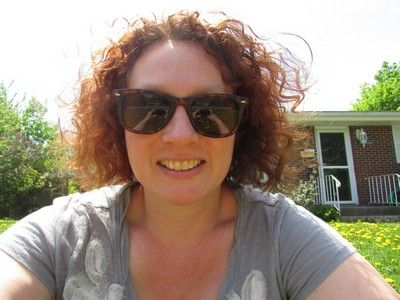sunglasses: (109, 87, 243, 142)
